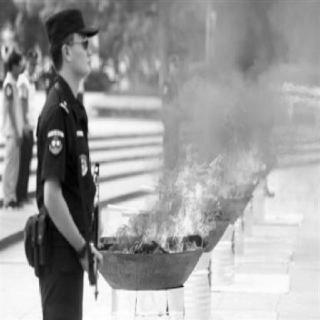Fire: (103, 105, 265, 262)
